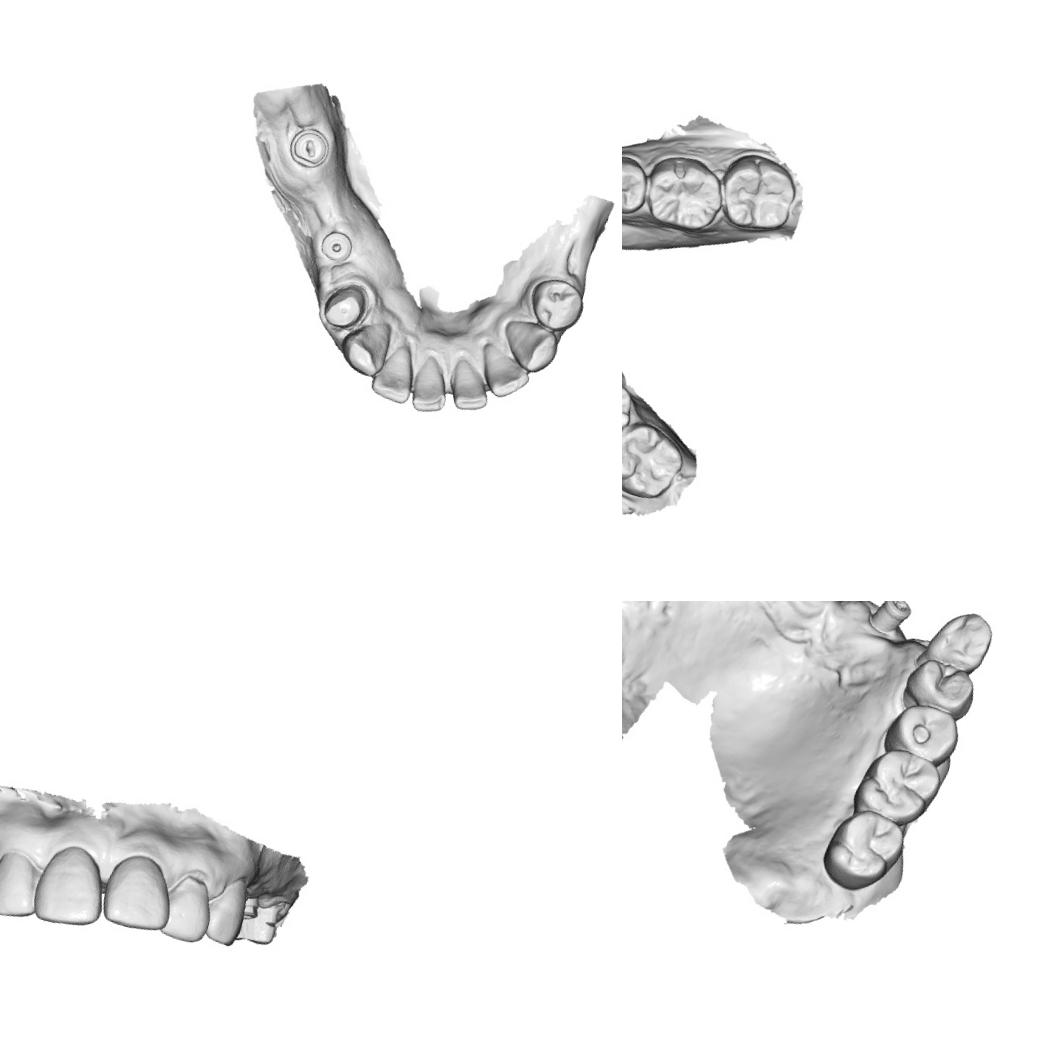canine: (915, 601, 997, 677), (195, 867, 254, 952), (493, 312, 563, 378), (334, 311, 396, 381)
crown: (314, 274, 374, 336)
implant: (312, 223, 360, 267), (236, 887, 268, 923)
implant_minus: (282, 120, 336, 174)
implant_plus: (864, 601, 916, 640)
incisor: (24, 833, 116, 935), (93, 844, 182, 940), (153, 864, 221, 948), (470, 338, 537, 405), (0, 843, 51, 926), (365, 336, 423, 407), (440, 354, 497, 416), (405, 352, 457, 418)
molar: (814, 800, 910, 901), (711, 146, 805, 241), (637, 145, 731, 240), (848, 740, 947, 829), (622, 410, 692, 507)
premolar: (878, 694, 966, 769), (898, 652, 982, 722), (522, 271, 589, 337), (622, 148, 655, 220)
